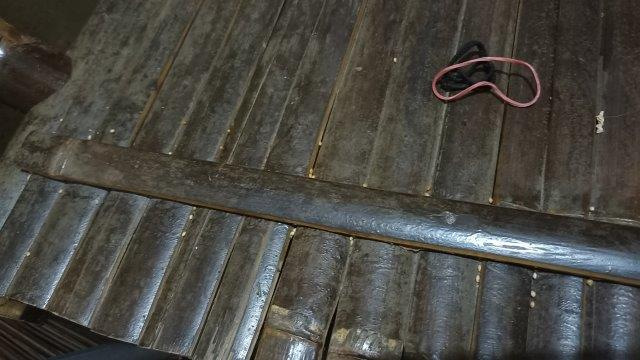karet: (431, 41, 541, 108)
